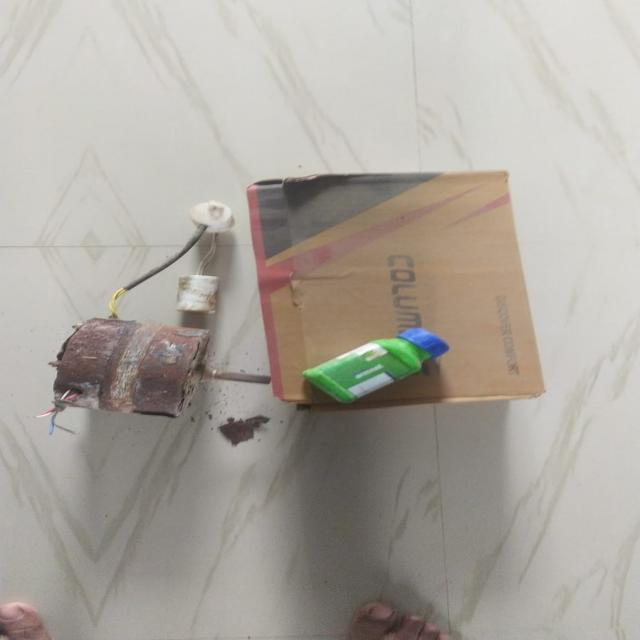dry: (264, 166, 508, 330), (45, 292, 246, 458), (278, 327, 477, 404)
